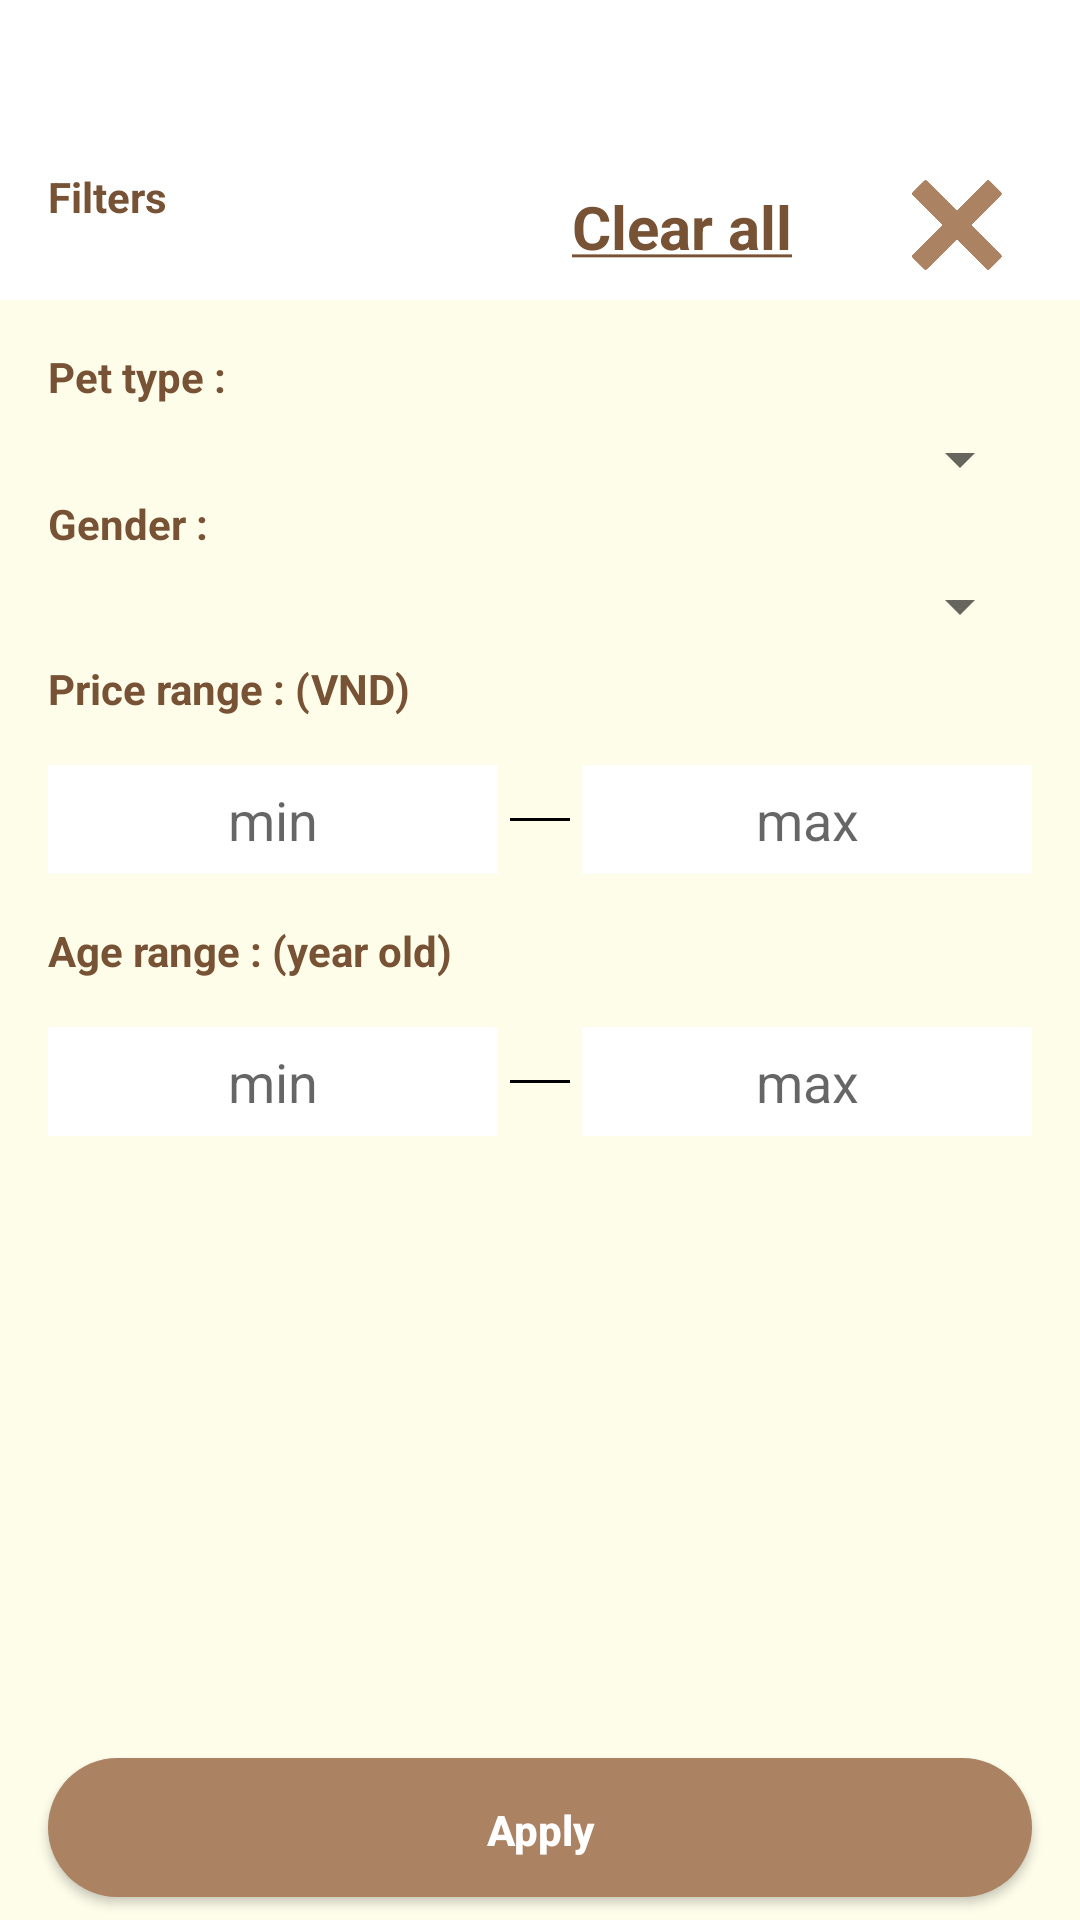

Icon bounding boxes for this 1080w x 1920h phone screenshot, format (x1, y1, x2, y2):
exit: (912, 180, 1002, 270)
